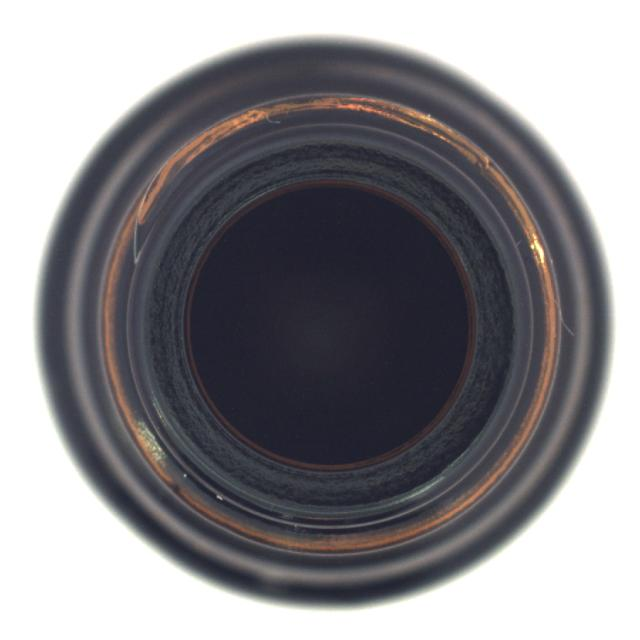bottle-good: (34, 34, 602, 606)
